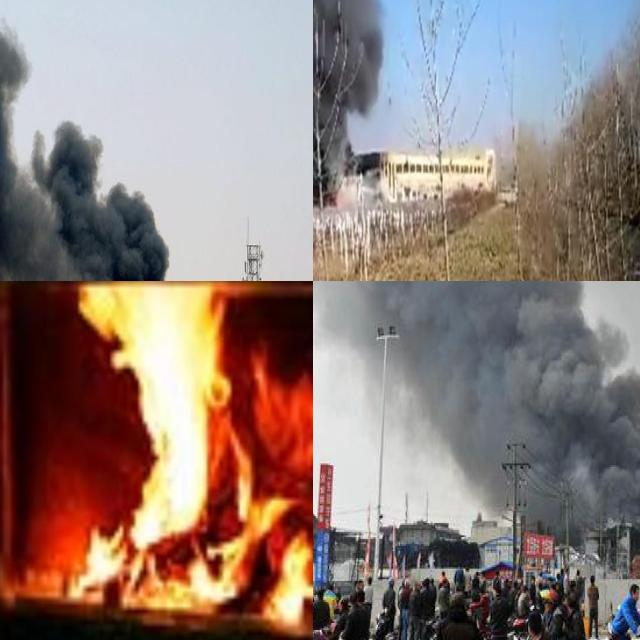fire: (56, 281, 313, 627)
smoke: (313, 281, 640, 546), (0, 0, 199, 281)
